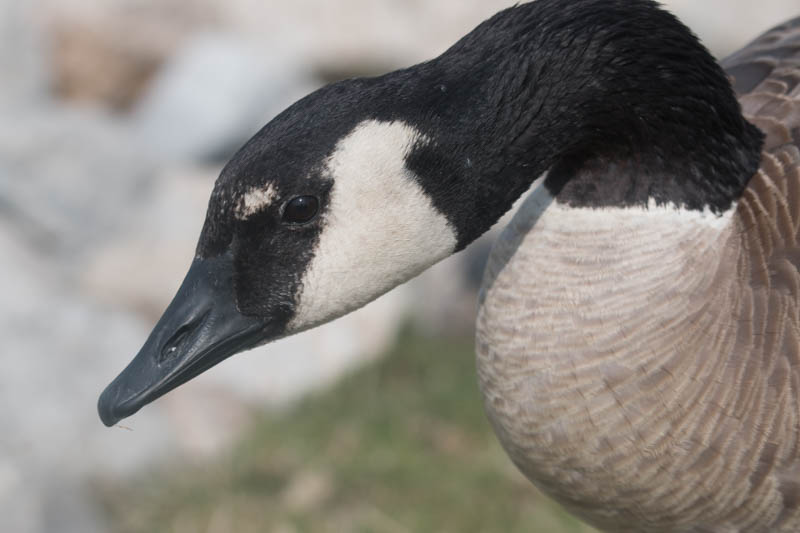goose-head: (97, 60, 502, 429)
